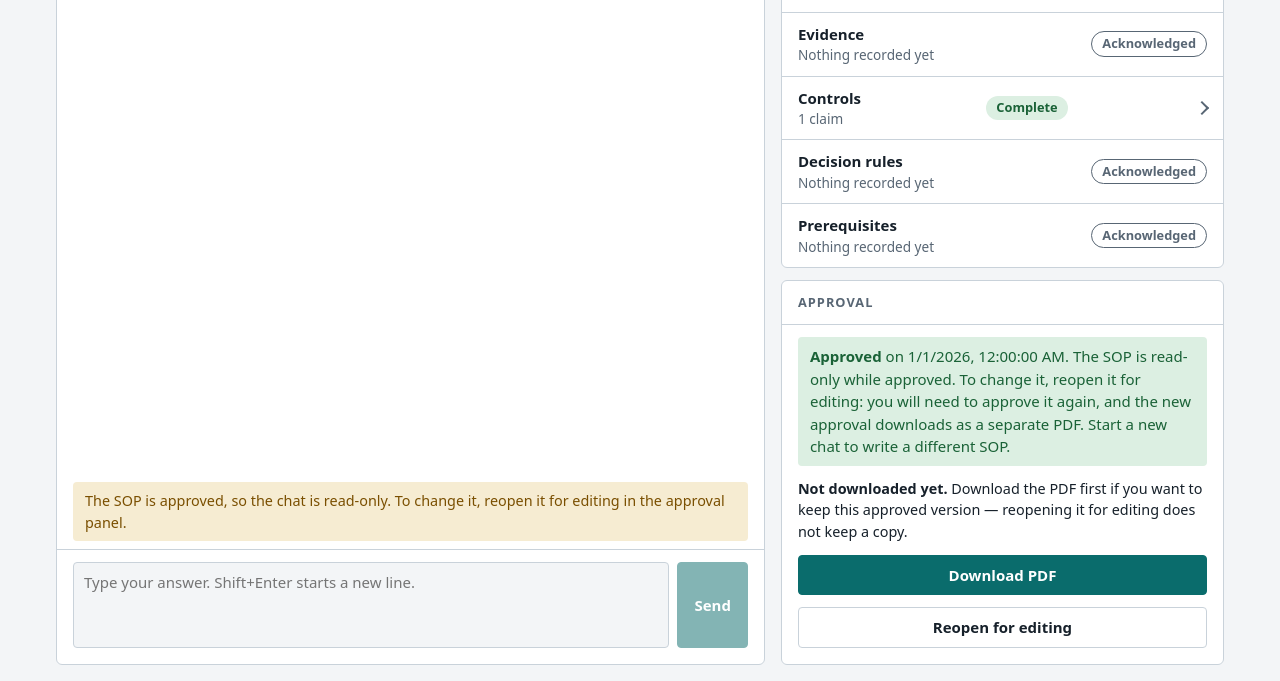
downloading the approved SOP › shows the server's refusal and does not record a download
The image size is (1280, 681).
(page scrolled)
What coordinates should you click on to do the following:
click the button "Download PDF"
I would click on:
 (1002, 575)
Its box is [798,555,1207,595].
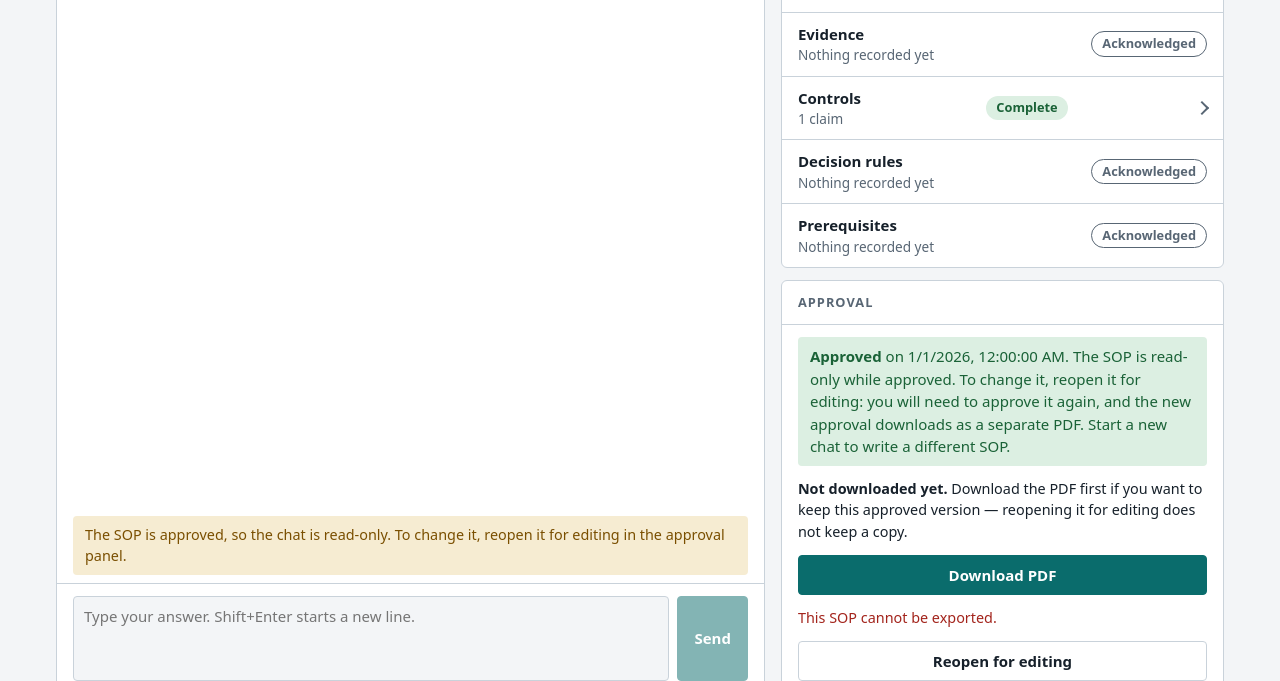
Expected: the text "Not downloaded yet." is shown, [798,479,948,498]
Expected: the message "This SOP cannot be exported." is shown, [798,608,997,627]
